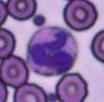N: (26, 26, 77, 75)
